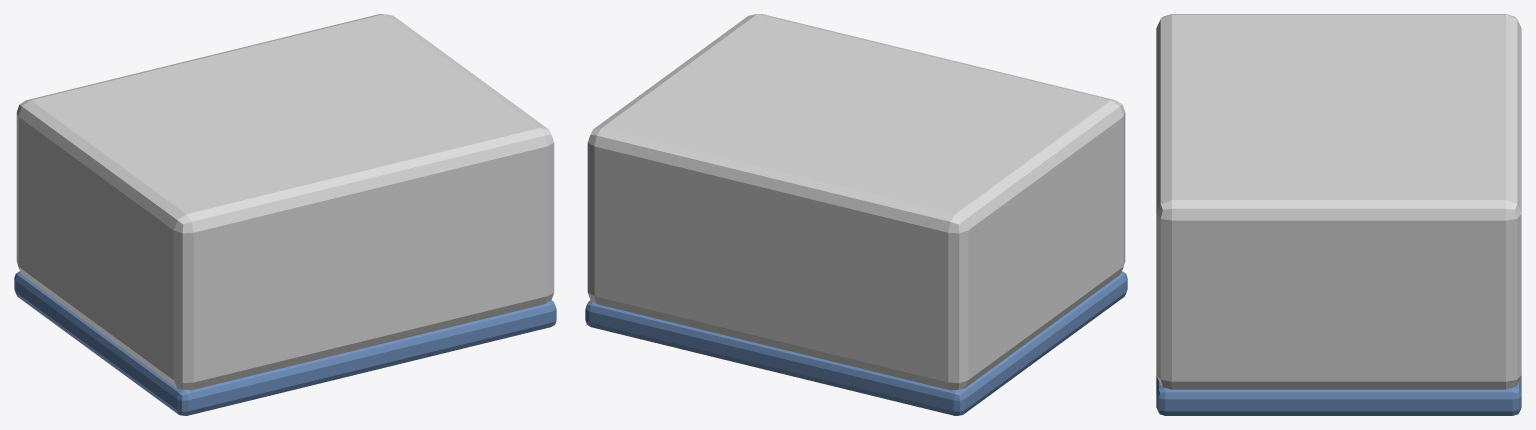
The model's file is generic-block.glb.
The picture shows the model from 3 angles, left to right: view 1: azimuth 30°, elevation 25°; view 2: azimuth 150°, elevation 25°; view 3: azimuth 270°, elevation 25°; orthographic projection. The views are drawn at different scales.
Parts seen in each view (by area): view 1: body, base; view 2: body, base; view 3: body, base.
Boxes of the visible parts, x1,y1,x2,y2 form: body: [16, 14, 554, 390]; base: [14, 271, 556, 415]; body: [587, 14, 1125, 390]; base: [585, 271, 1127, 415]; body: [1156, 14, 1521, 389]; base: [1156, 376, 1521, 415].
Size of the model in its own units: 1.8 by 0.9 by 1.4.
